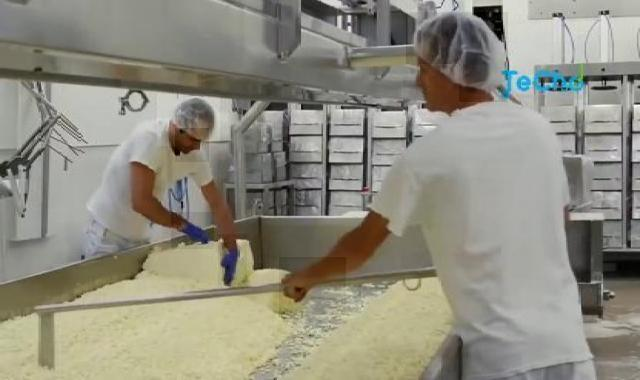apron: (171, 213, 214, 250), (219, 235, 248, 286)
gloves: (406, 12, 508, 102), (157, 94, 220, 146)
no_apron: (279, 257, 346, 315)
no_hairnet: (404, 65, 460, 116), (176, 128, 210, 162)
